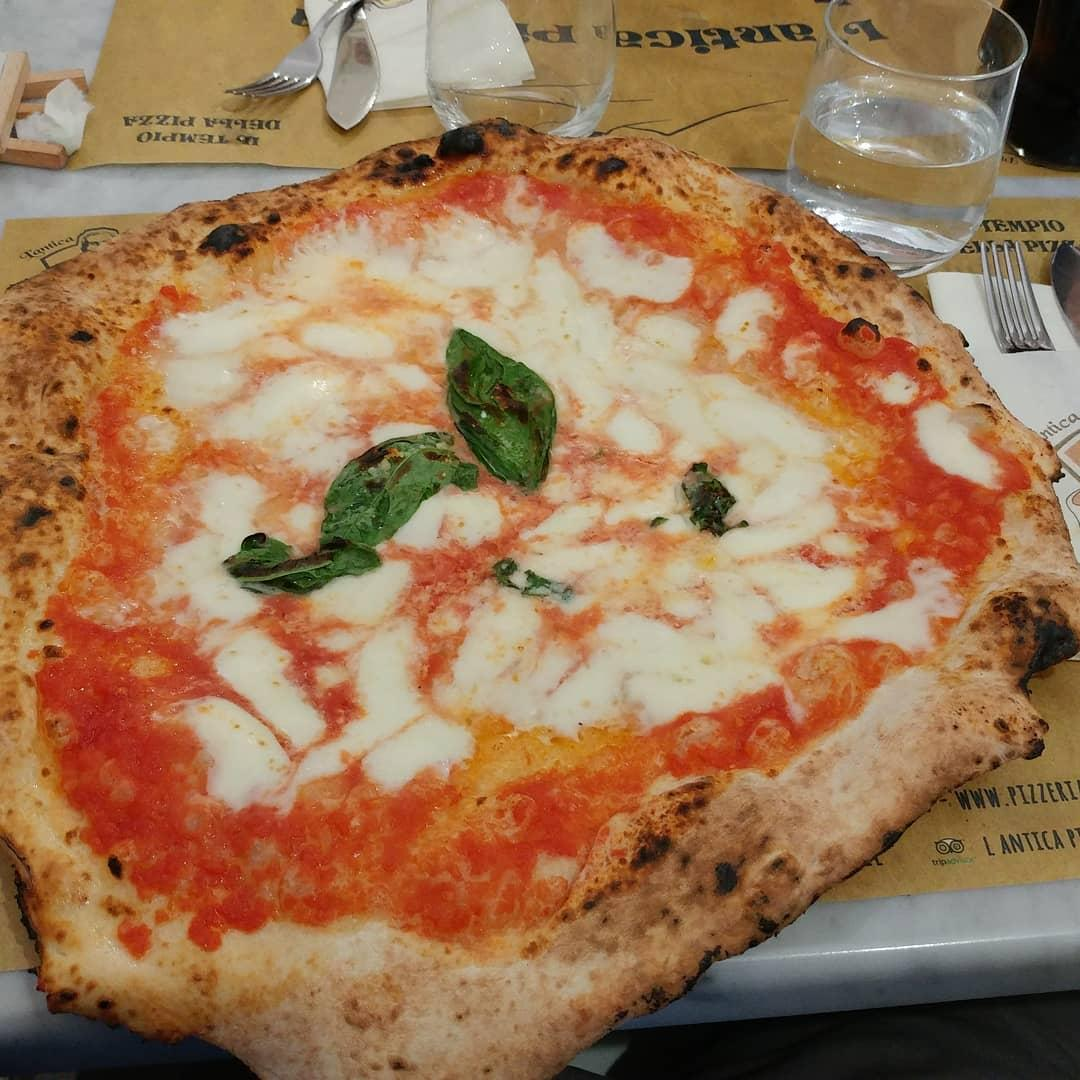Basil: (437, 318, 563, 500), (305, 428, 438, 562), (233, 527, 383, 600), (673, 455, 760, 548), (489, 555, 574, 604)
Pizza: (0, 133, 1080, 1080)
